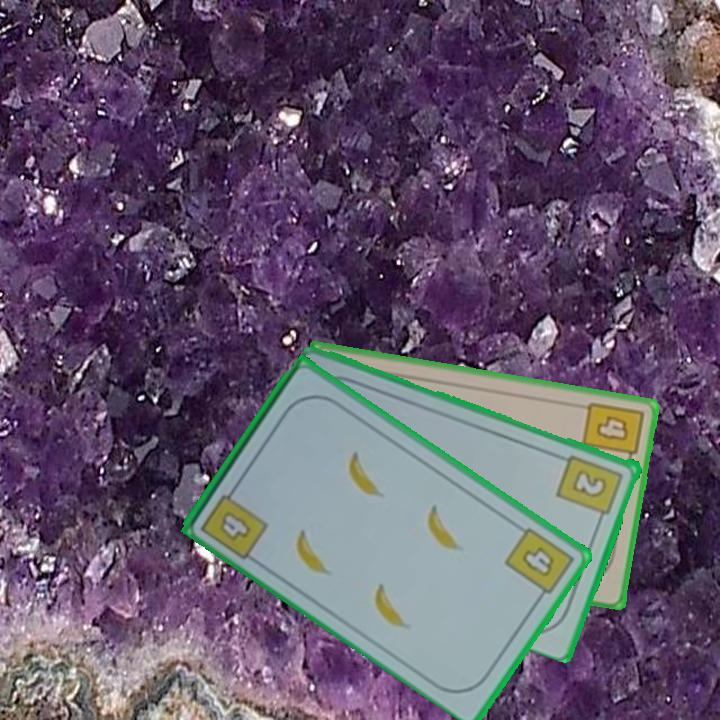2b: (554, 450, 626, 526)
4b: (501, 523, 577, 604), (197, 480, 271, 562), (579, 397, 646, 469)
